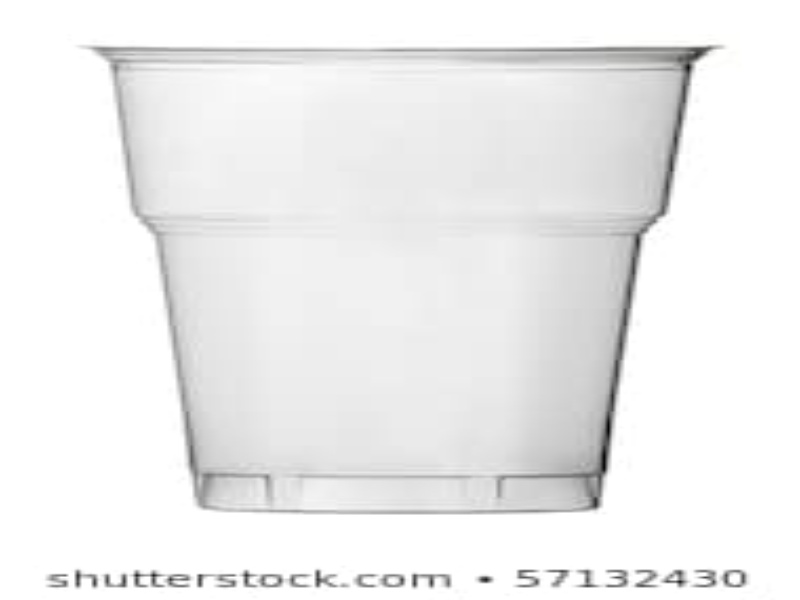plastic-cup: (75, 35, 726, 519)
